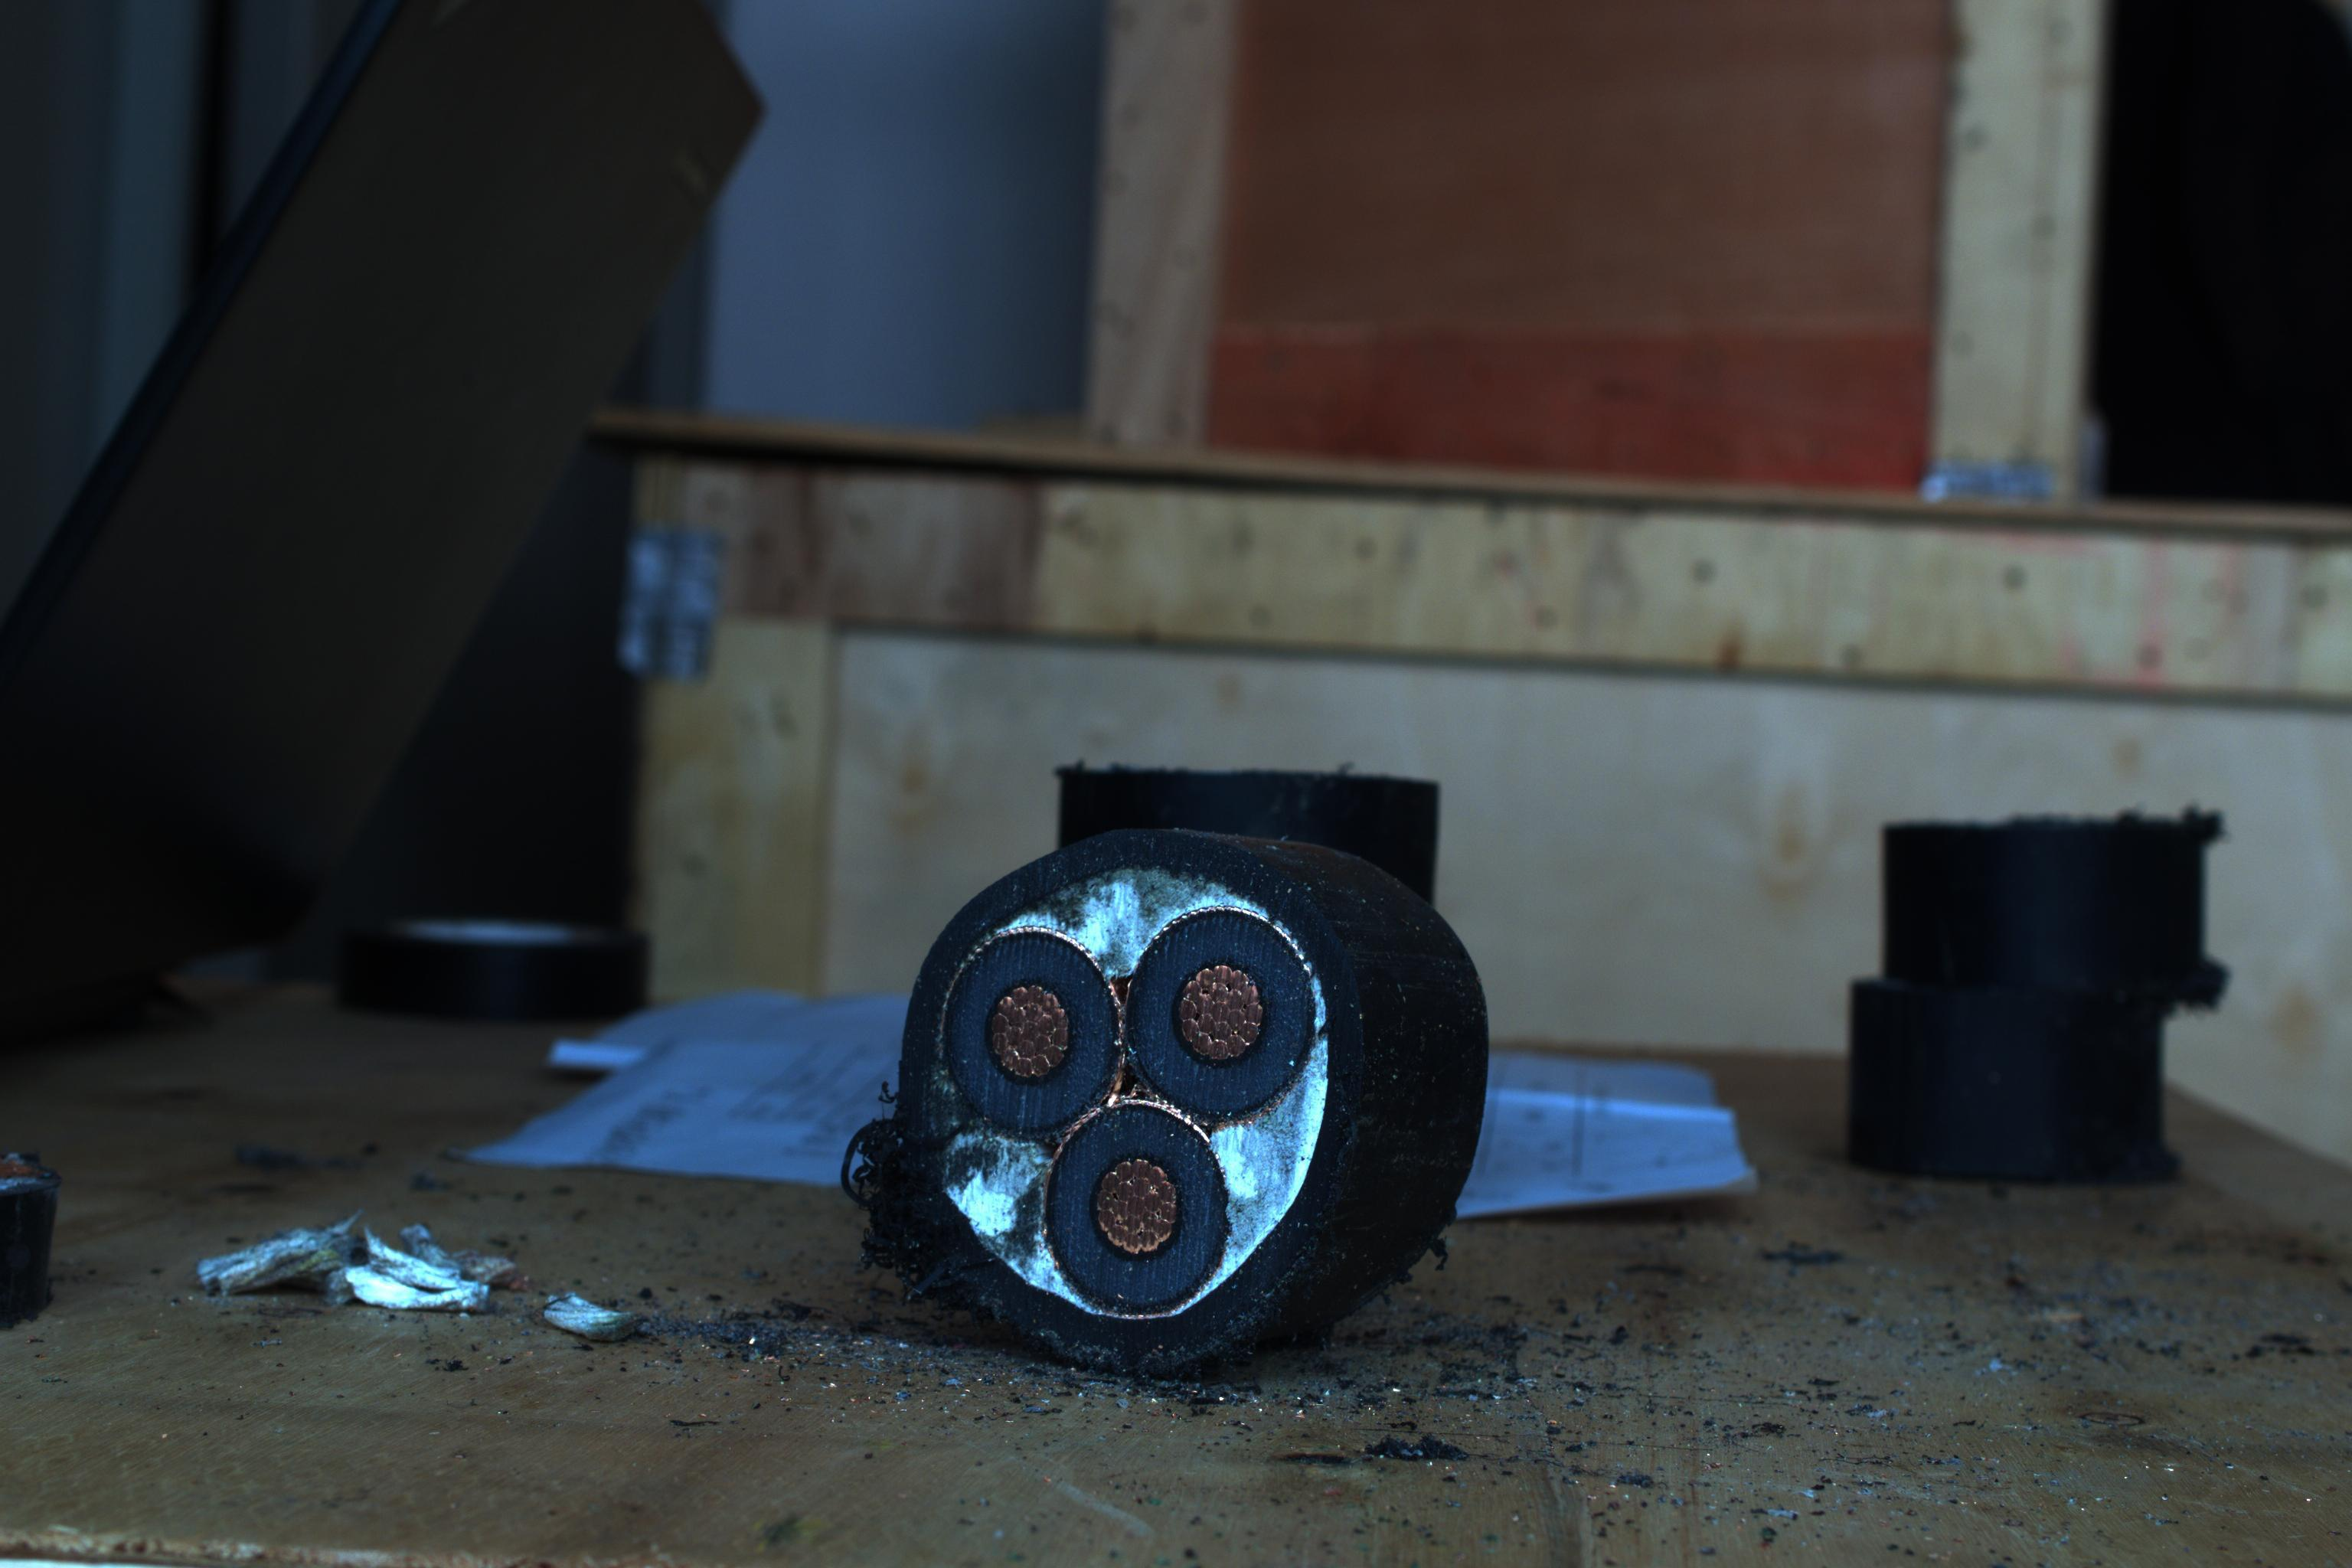YJV_8.7_10kV_3x70: (870, 838, 1384, 1337)
